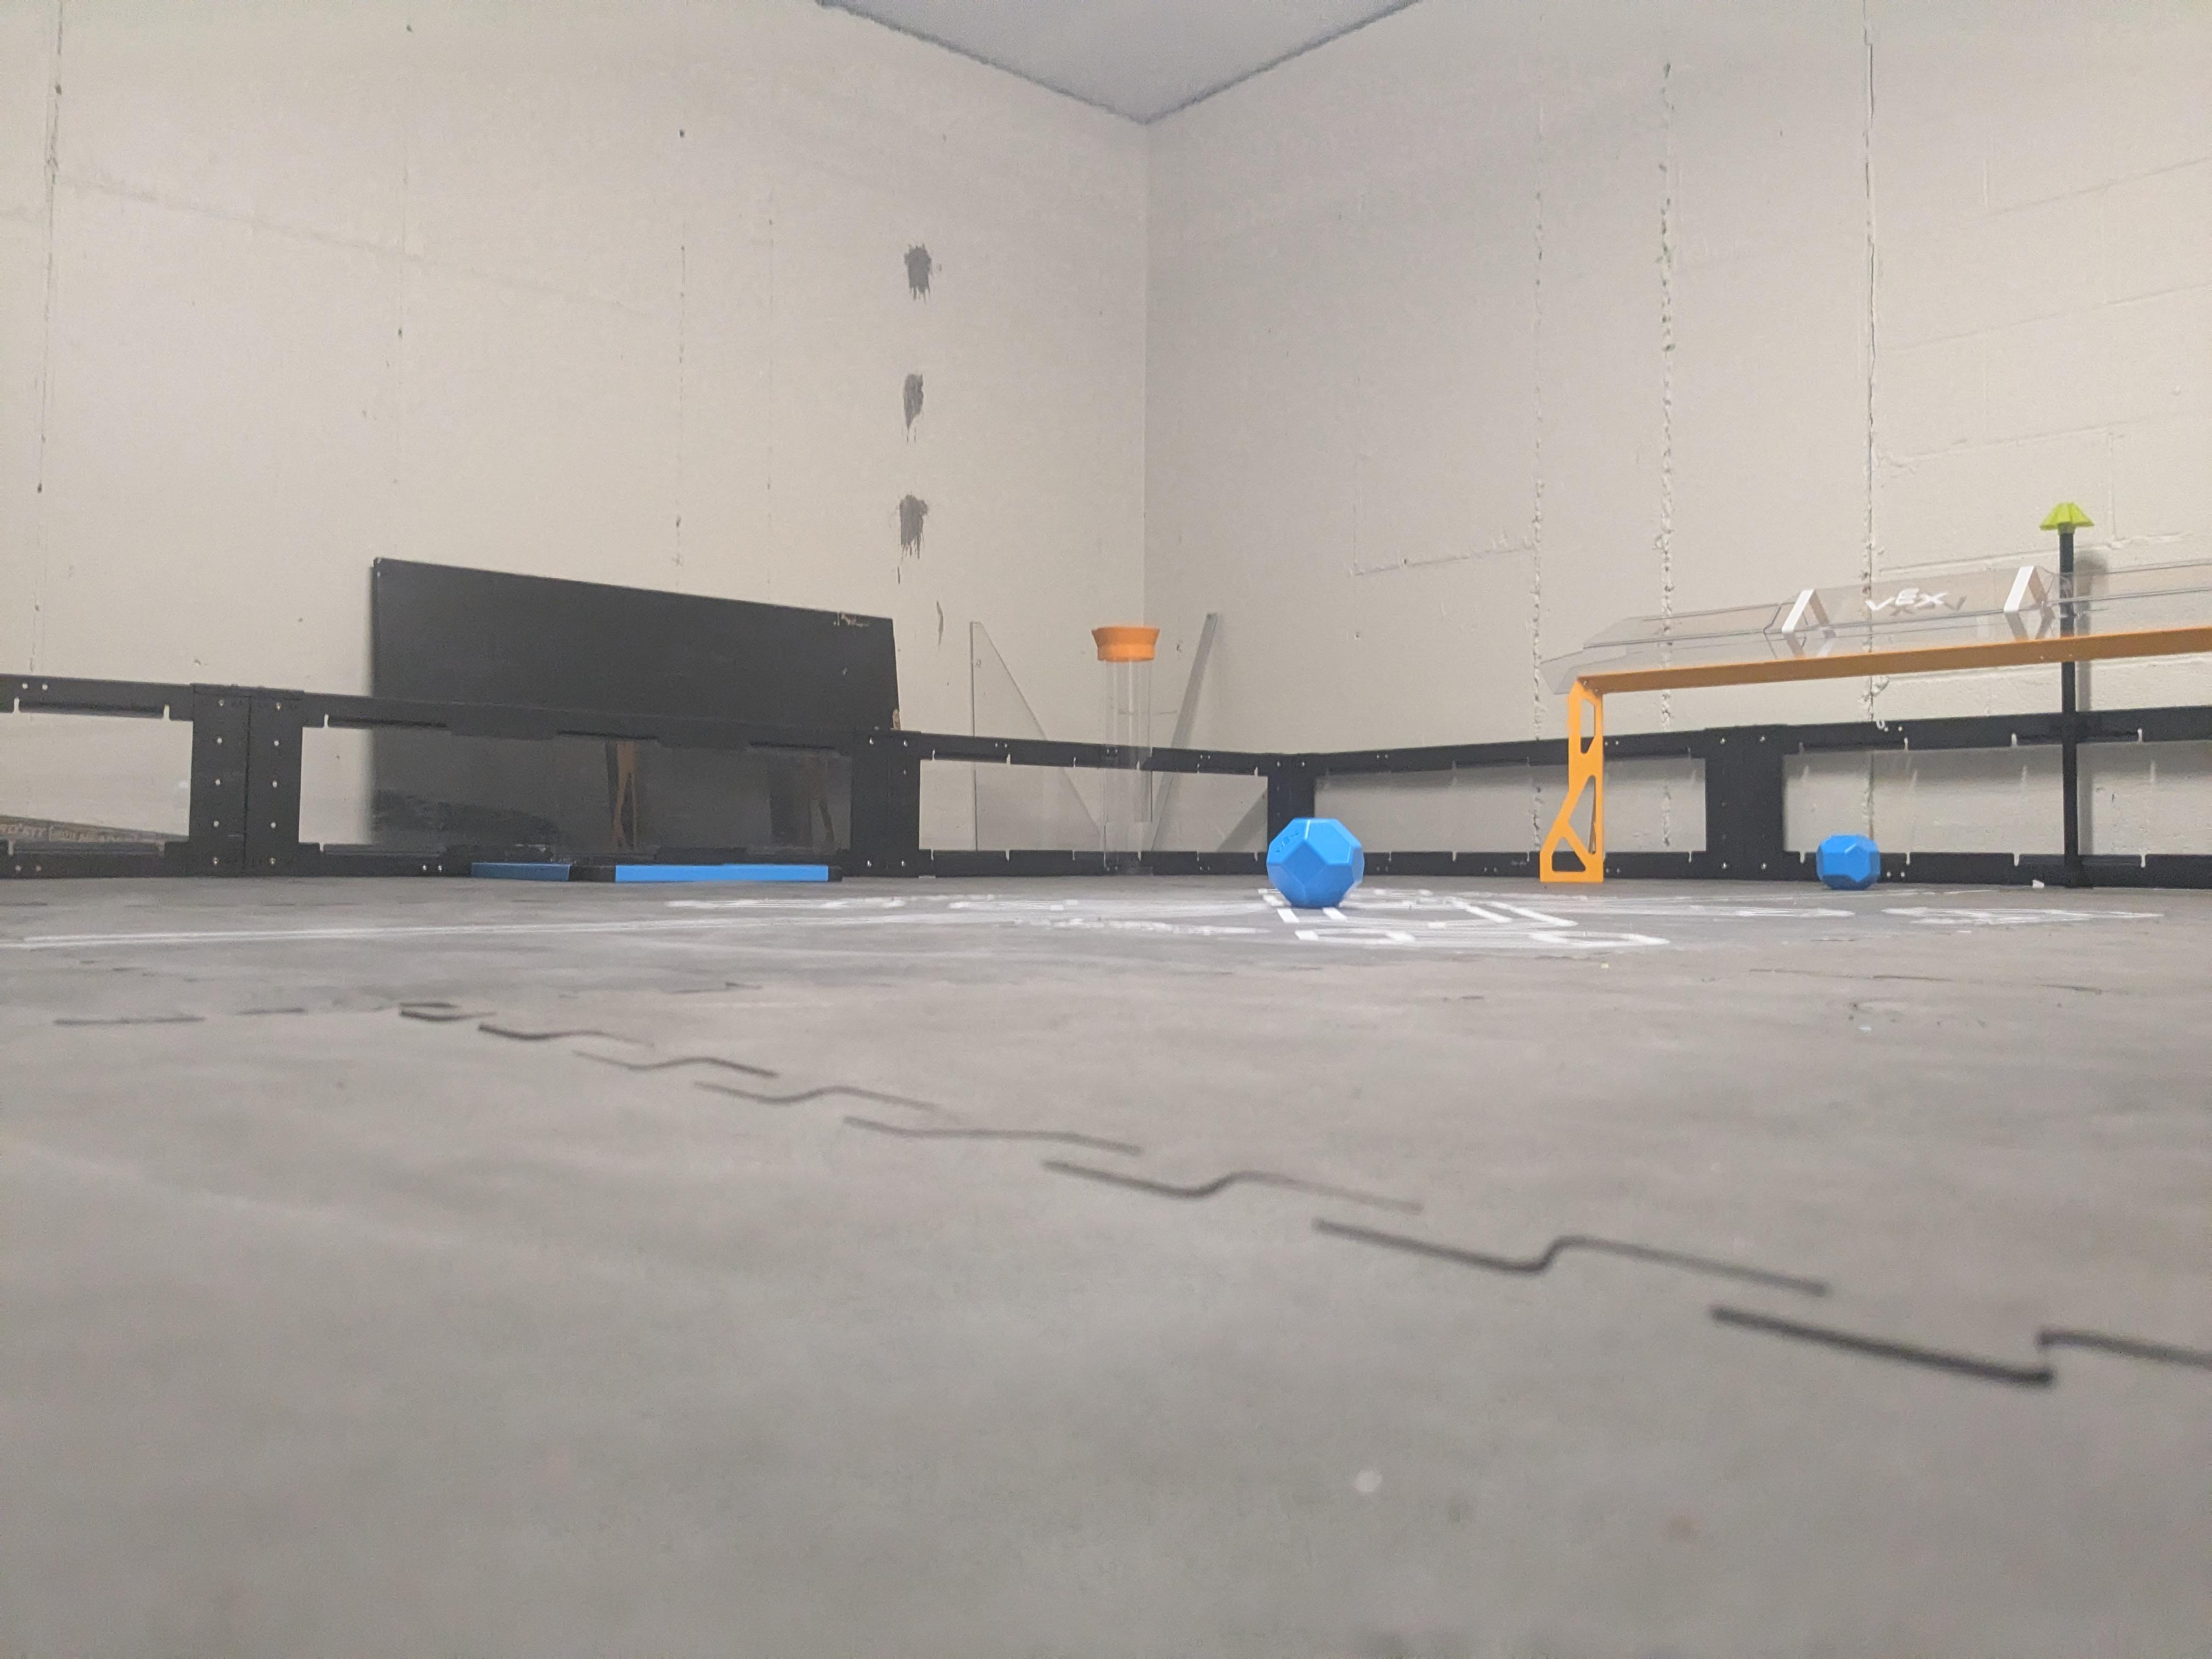Vex-Pieces-BLUE: (1268, 819, 1364, 910), (1815, 835, 1881, 890)
